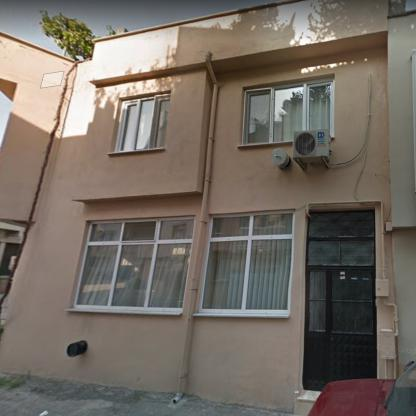door: (304, 267, 375, 389)
window: (74, 216, 193, 310), (199, 211, 293, 313), (242, 78, 334, 144), (308, 212, 374, 267), (113, 95, 169, 151)
